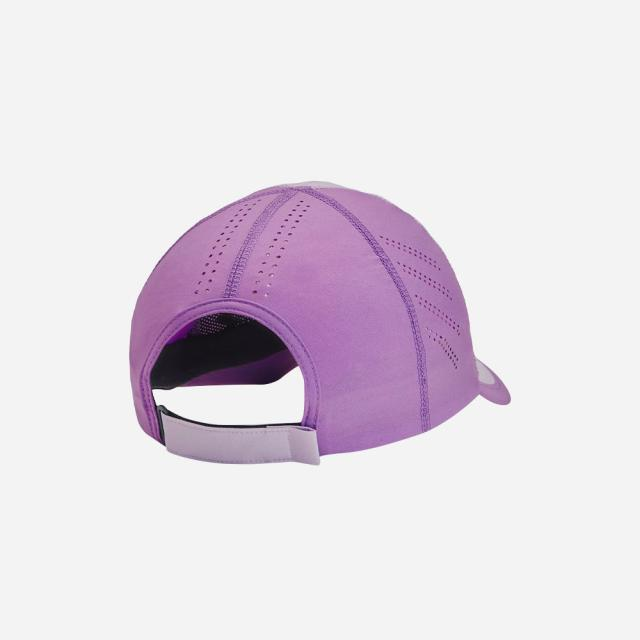Cap: (119, 162, 523, 474)
